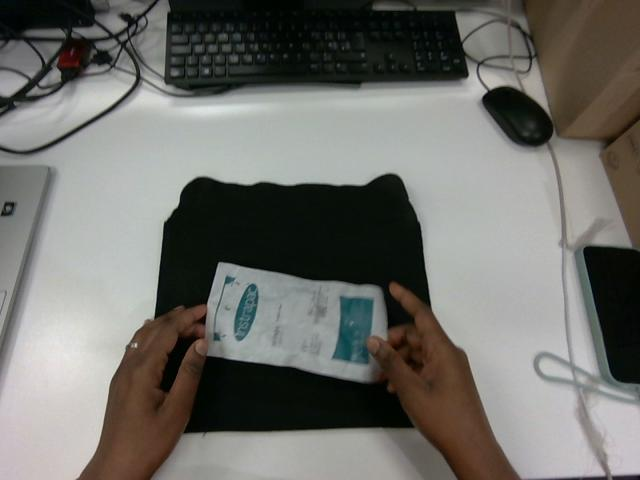gallipot: (206, 262, 386, 382)
